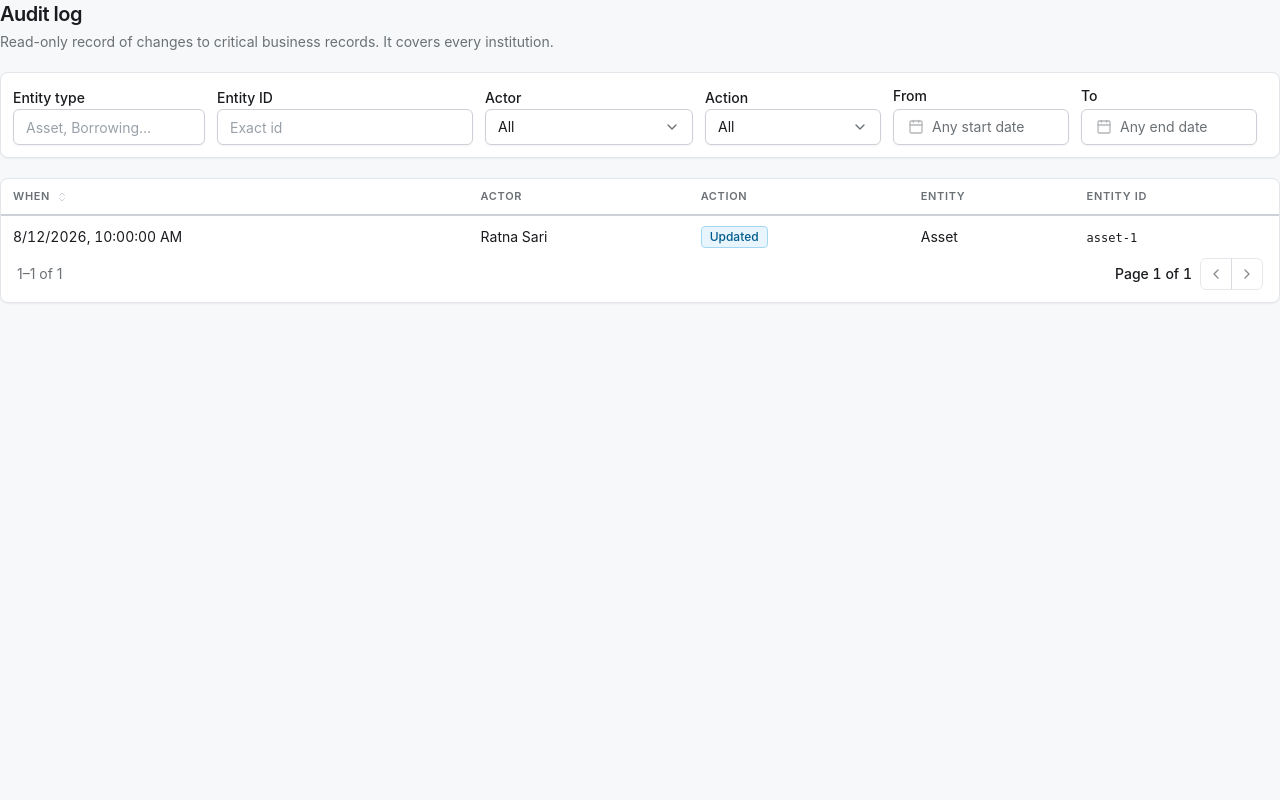
Scenario: AuditPage — detail (REQ-AUDIT-002) › compares old and new values, marking what changed
The width and height of the screenshot is (1280, 800).
Expected: the text "Asset" is shown, [909, 215, 1075, 258]
What coordinates should you click on to do the following:
click the button "8/12/2026, 10:00:00 AM"
I would click on:
 (98, 237)
Its box is [13, 227, 182, 247].
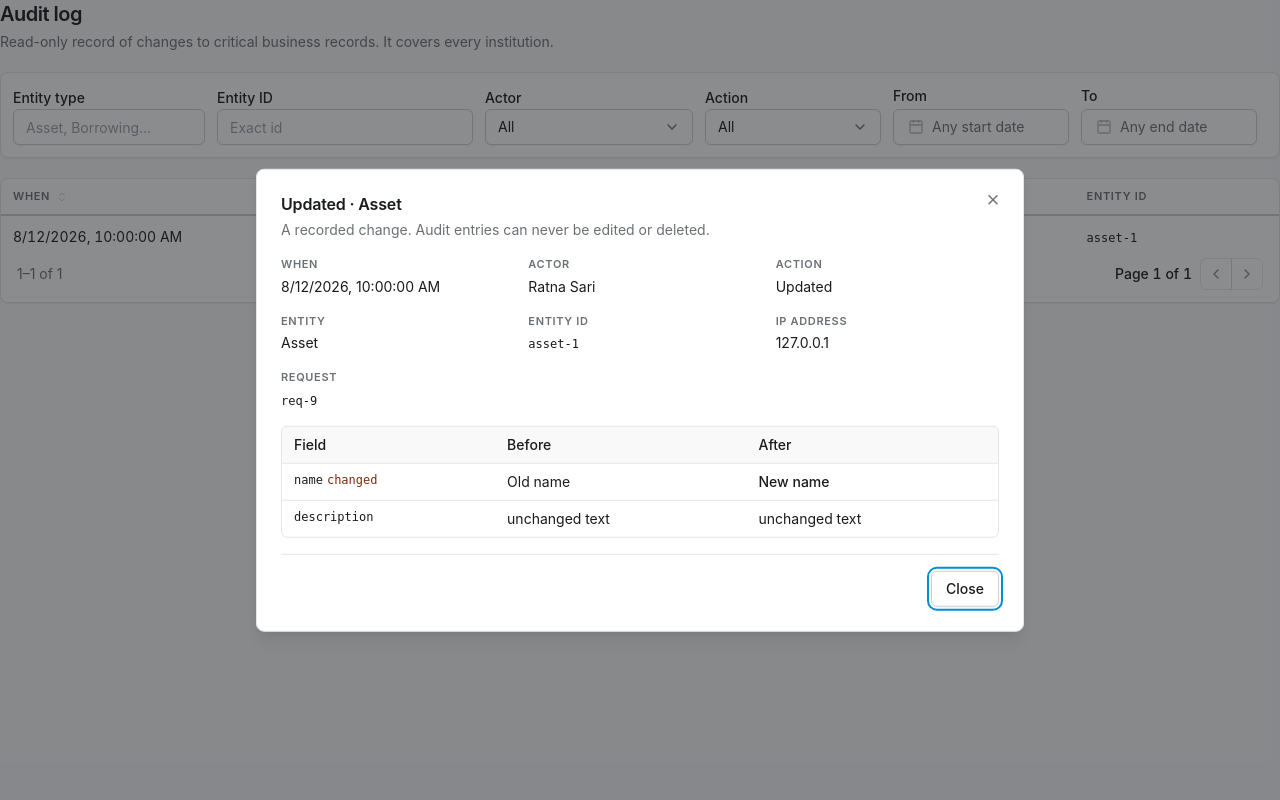
Result: the column heading "Before" is shown at [495, 426, 746, 463]
Result: the column heading "After" is shown at [746, 426, 998, 463]
Result: the text "changed" is shown once at [327, 472, 378, 486]
